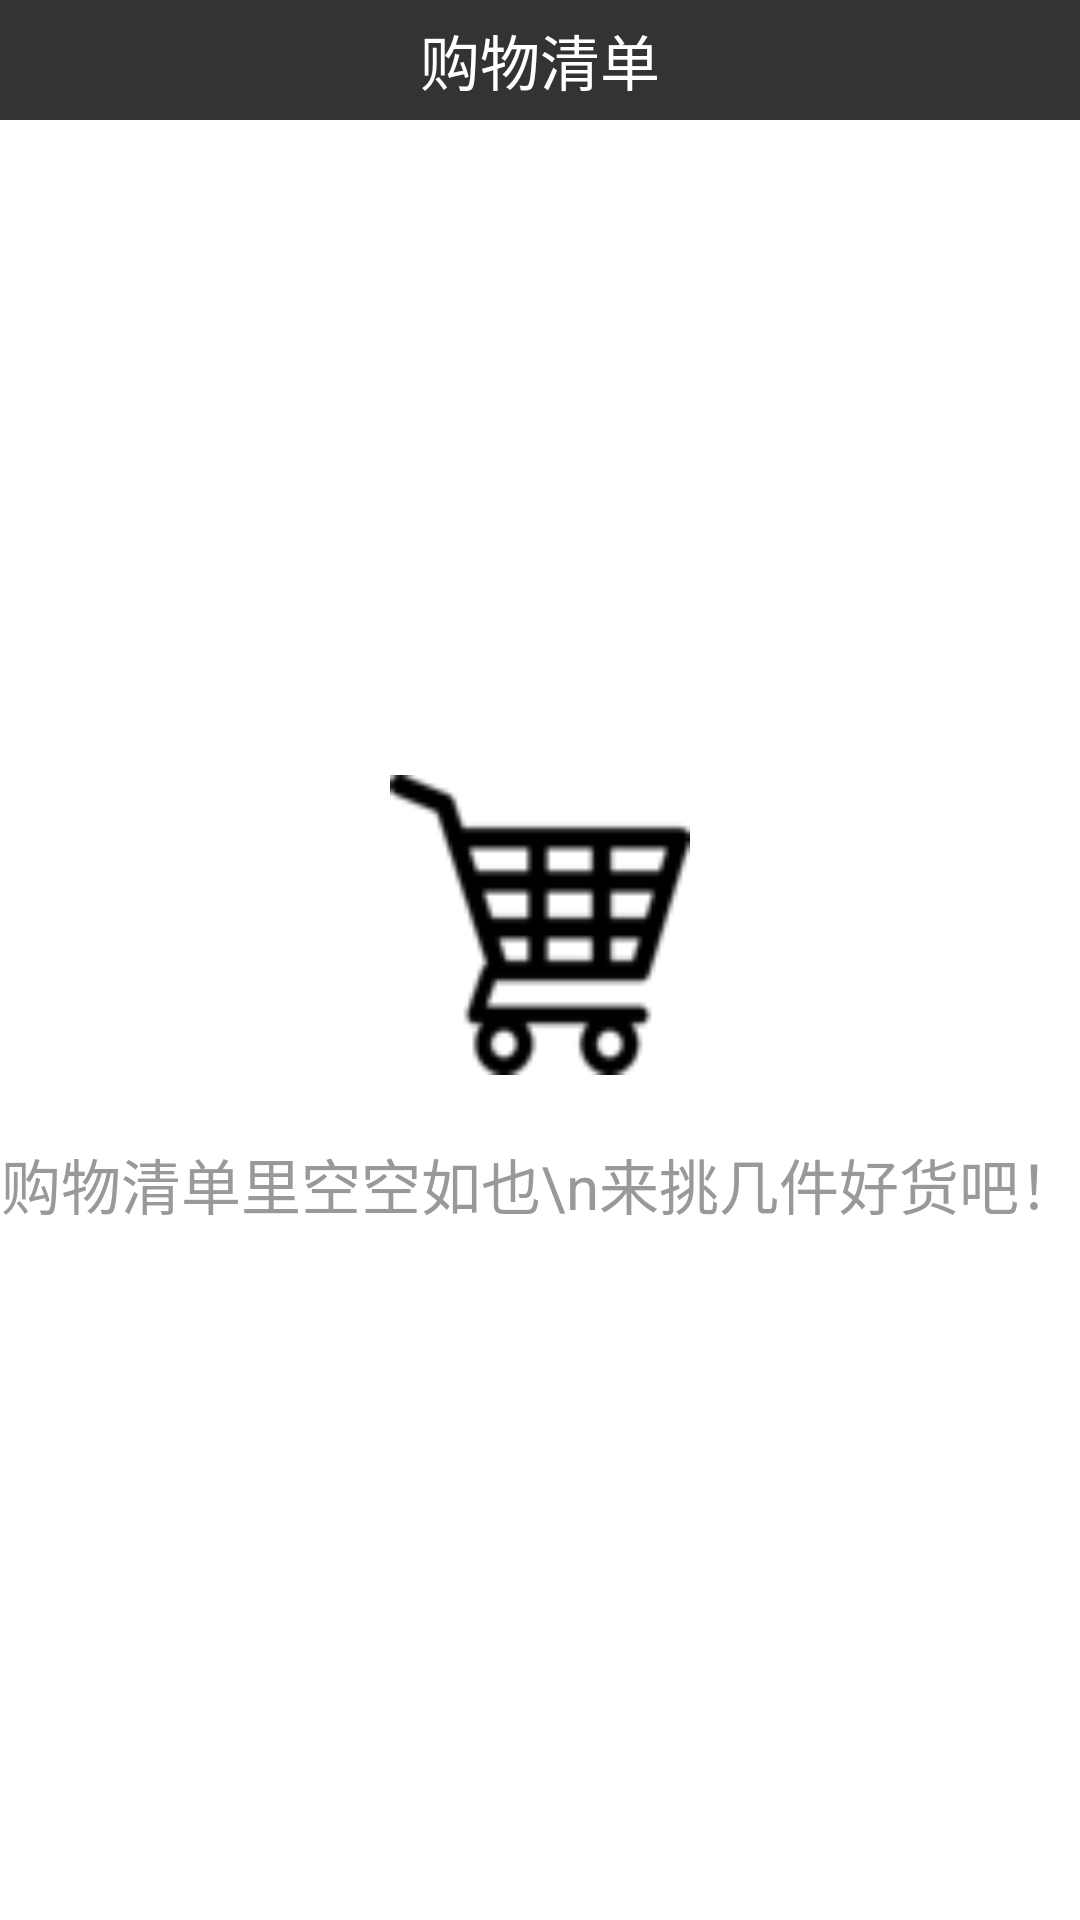

Where to tap for icons on this 1080px x 1920px app screen, as (x,y):
shoppingche: (540,925)
